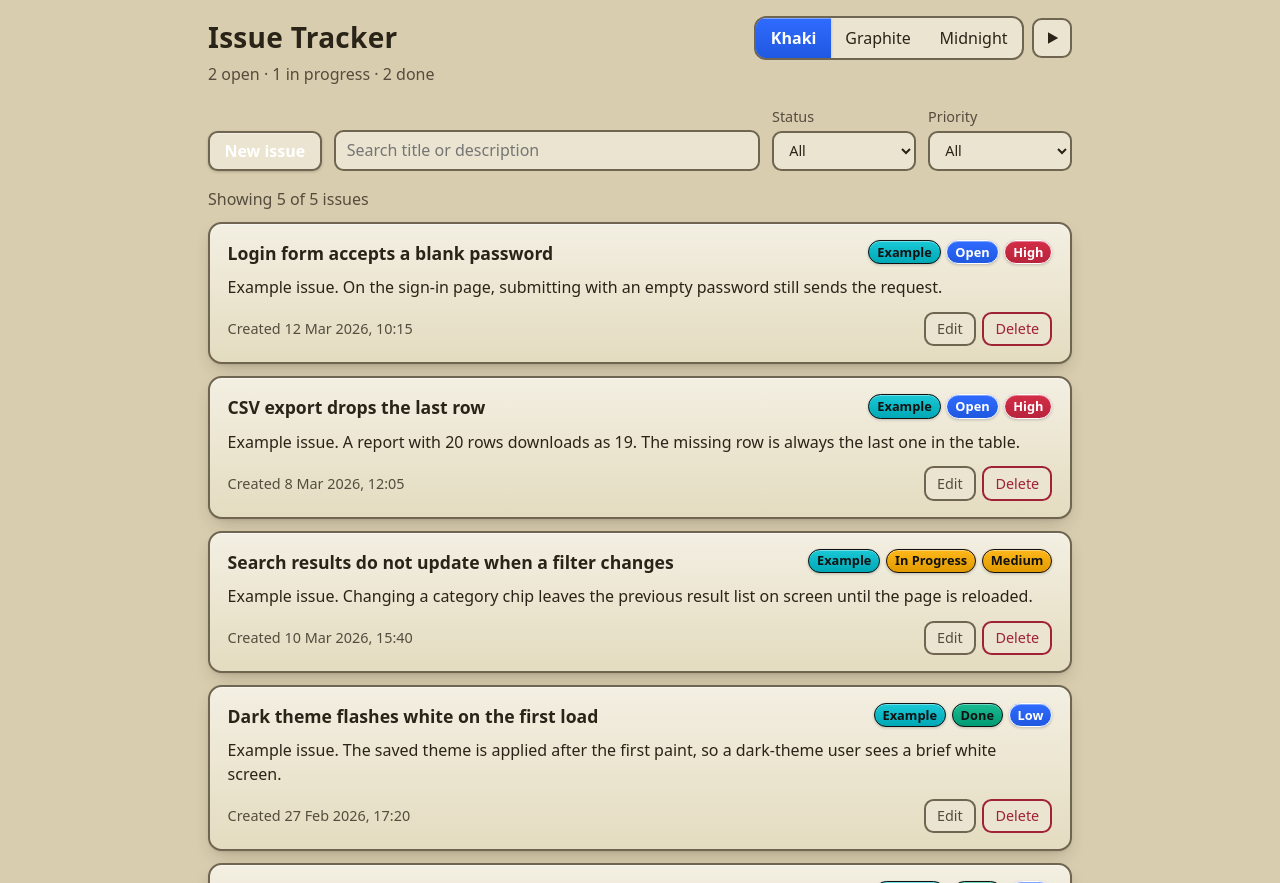
Scenario: App › keeps background motion static by default and persists a change
Click the button named "Animated background" at (1052, 38), box [1032, 18, 1072, 58]
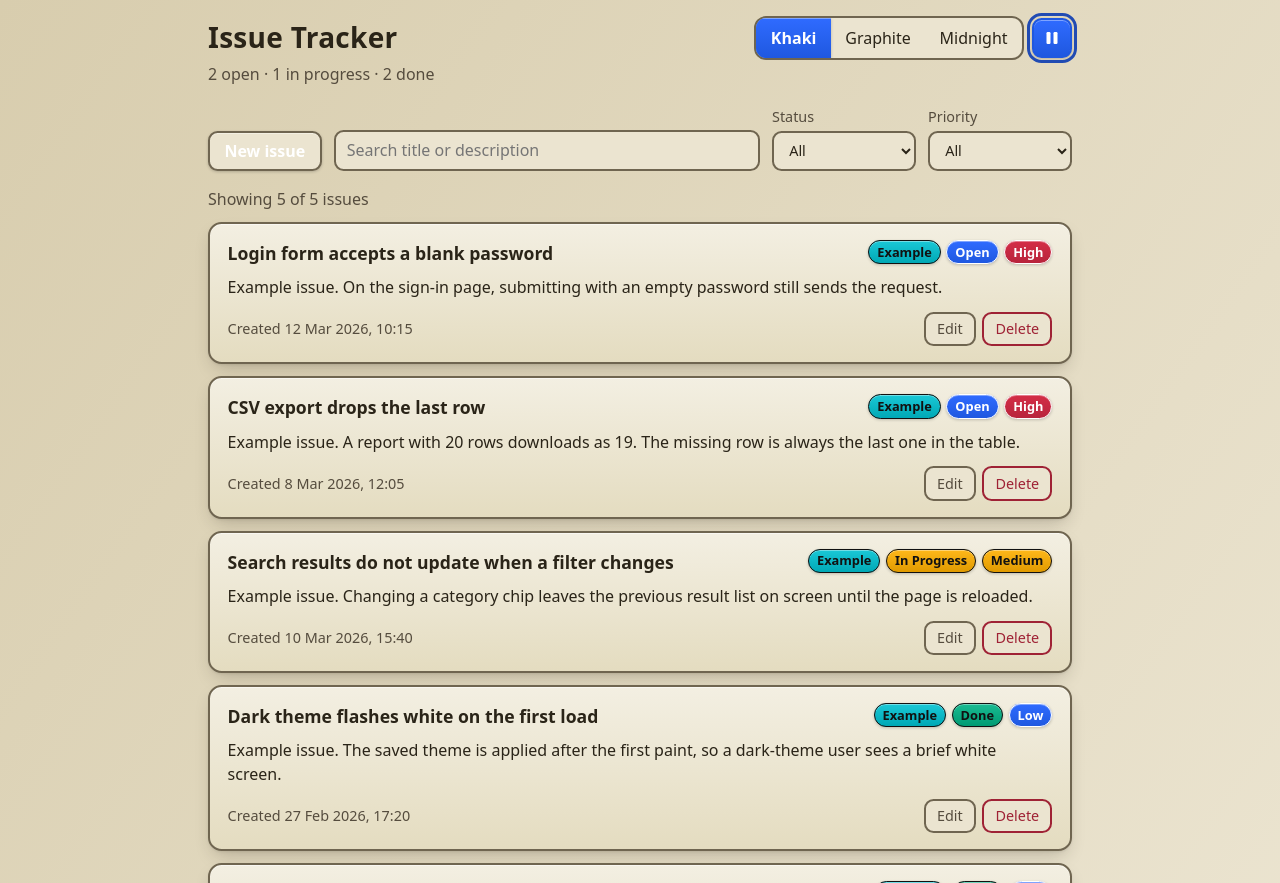
Expected: the button named "Animated background" is pressed, [1032, 18, 1072, 58]
